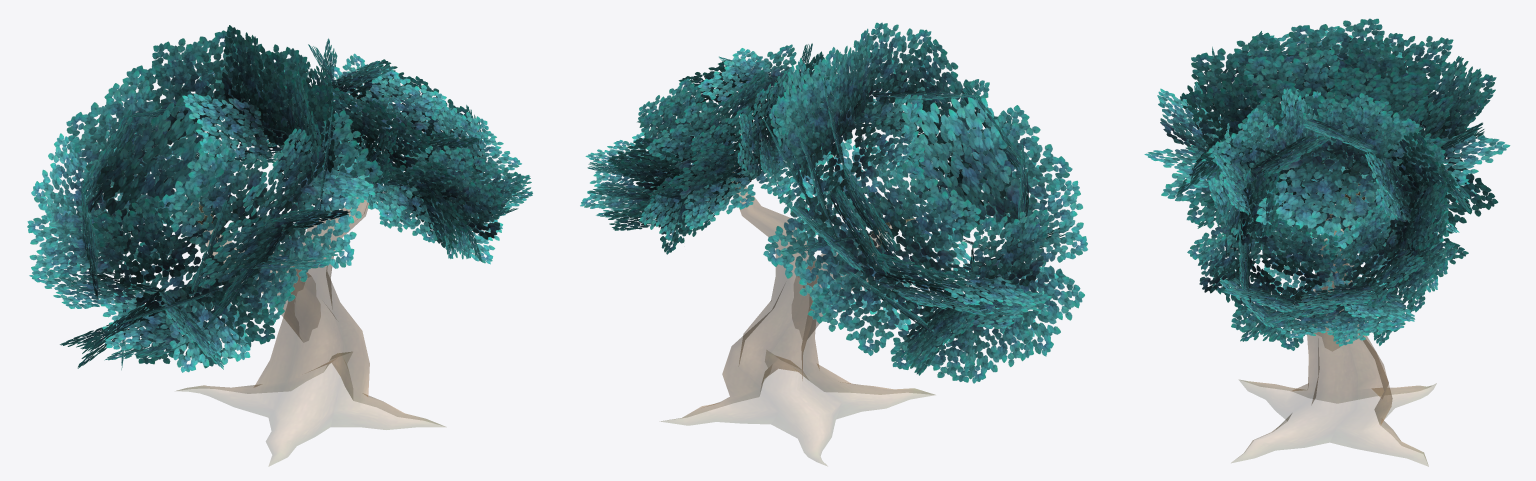
File: Obj_RartesiaTree05.glb
The picture shows the model from 3 angles, left to right: view 1: azimuth 30°, elevation 25°; view 2: azimuth 150°, elevation 25°; view 3: azimuth 270°, elevation 25°; orthographic projection.
Parts seen in each view (by area): view 1: GMObject0_Block1, GMObject0_Block0; view 2: GMObject0_Block1, GMObject0_Block0; view 3: GMObject0_Block1, GMObject0_Block0.
Boxes of the visible parts, x1,y1,x2,y2 form: GMObject0_Block1: (27,25,532,372); GMObject0_Block0: (177,197,445,465); GMObject0_Block1: (580,22,1087,383); GMObject0_Block0: (661,165,934,465); GMObject0_Block1: (1144,18,1510,350); GMObject0_Block0: (1231,184,1436,466).
Size of what is drawn, in the model's own units: 8.1 by 6.4 by 6.01.
2 materials, 2 textured.
